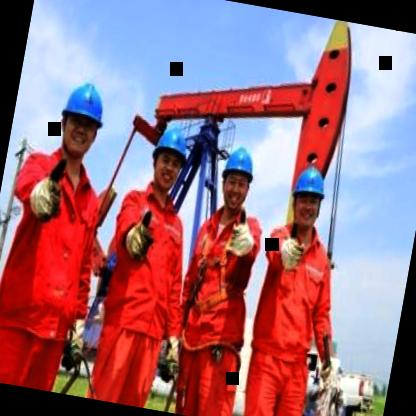helmet: (50, 74, 114, 168), (144, 112, 199, 200), (282, 156, 332, 239), (212, 136, 262, 218)
